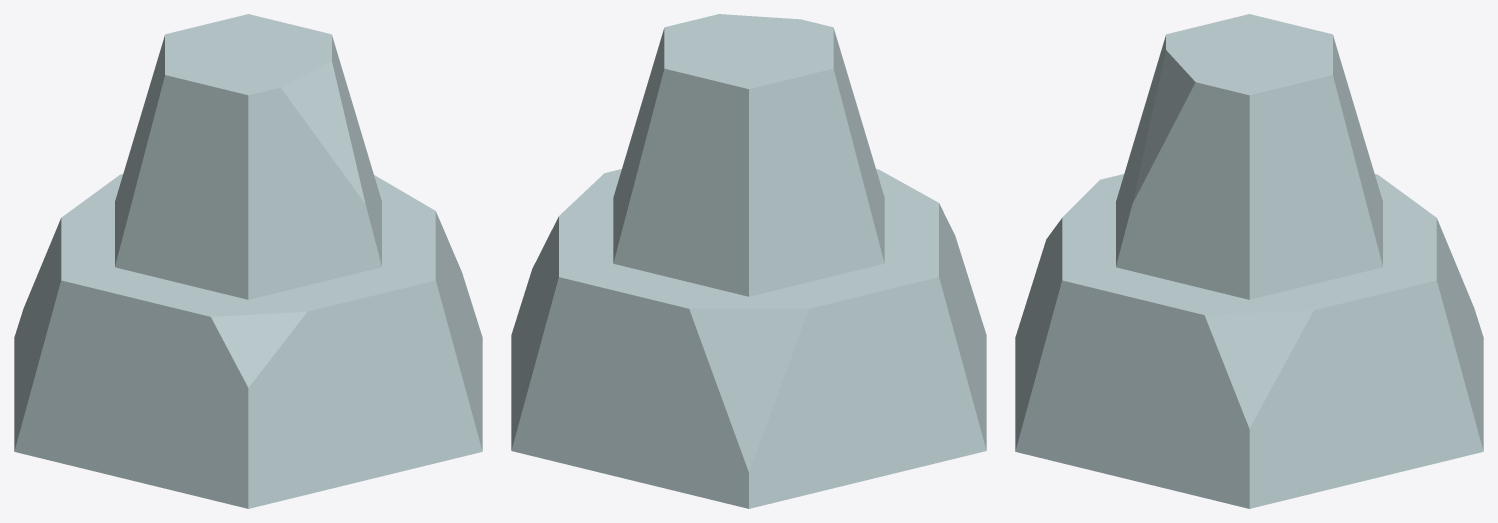
Rendered from stone_smallF.glb.
3 views of the same model, side by side, from view 1: azimuth 30°, elevation 25°; view 2: azimuth 150°, elevation 25°; view 3: azimuth 270°, elevation 25° (orthographic).
Visible parts, largest first — view 1: stone_smallF; view 2: stone_smallF; view 3: stone_smallF.
Boxes of the visible parts, bbox=[...] form: stone_smallF: bbox=[14, 14, 482, 508]; stone_smallF: bbox=[511, 14, 986, 508]; stone_smallF: bbox=[1015, 14, 1483, 508].
Bounding box in the file's own units: 0.3536 × 0.2453 × 0.3062.
